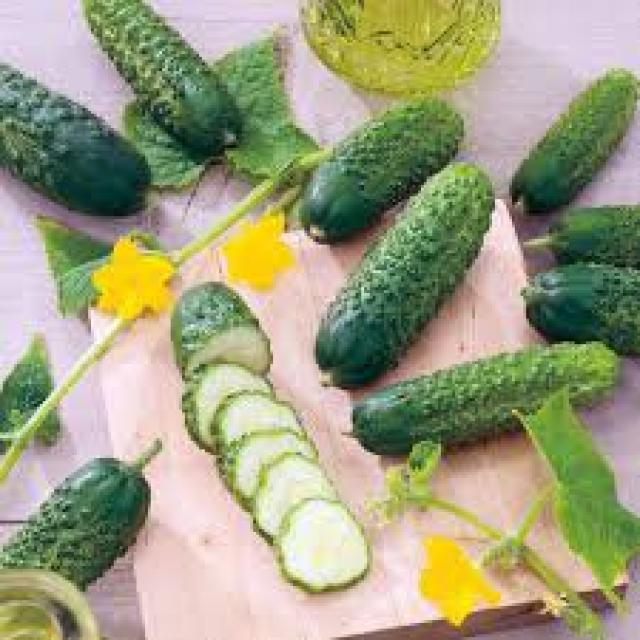cucumber: (315, 160, 496, 392), (356, 342, 622, 455), (296, 93, 466, 243), (80, 0, 242, 148), (0, 65, 155, 212), (506, 64, 640, 210)
